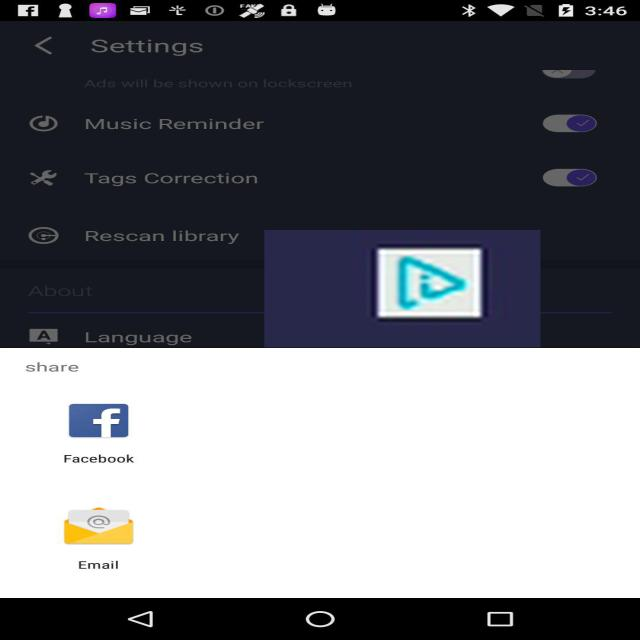sneaking: (264, 230, 540, 347)
